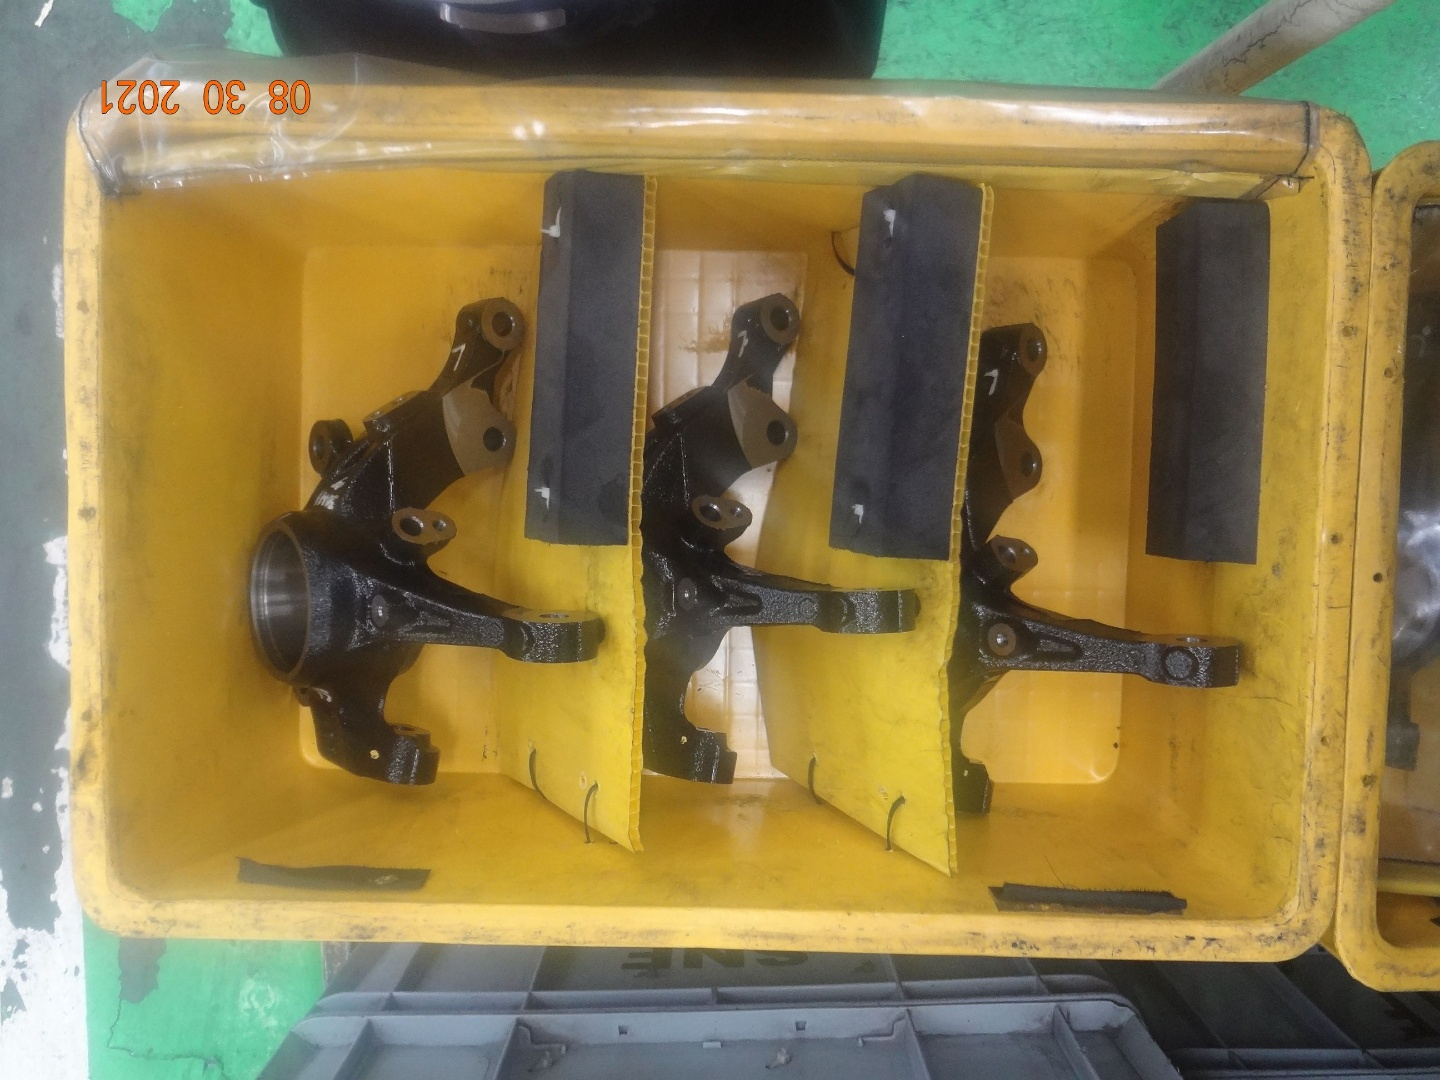abs-lh: (239, 288, 611, 796), (942, 313, 1254, 820), (621, 288, 926, 798)
